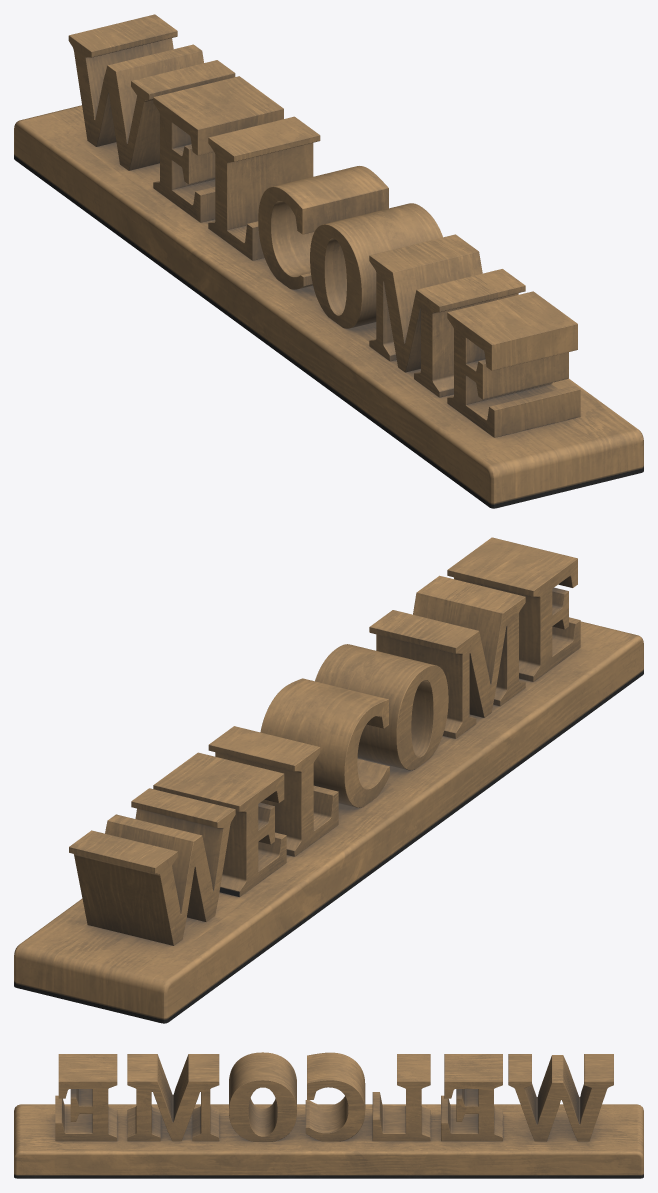
File: SM_WelcomeDeskS.fbx
3 views of the same model, one above another, from view 1: azimuth 30°, elevation 25°; view 2: azimuth 150°, elevation 25°; view 3: azimuth 270°, elevation 25° (orthographic). The views are drawn at different scales.
Visible parts, largest first — view 1: SM_WelcomeDeskS_LOD0; view 2: SM_WelcomeDeskS_LOD0; view 3: SM_WelcomeDeskS_LOD0.
Boxes of the visible parts, bbox=[...] form: SM_WelcomeDeskS_LOD0: bbox=[14, 14, 643, 508]; SM_WelcomeDeskS_LOD0: bbox=[14, 537, 643, 1023]; SM_WelcomeDeskS_LOD0: bbox=[14, 1052, 643, 1178].
Bounding box in the file's own units: 14.29 × 77.27 × 11.86.
1 material, 1 textured.
